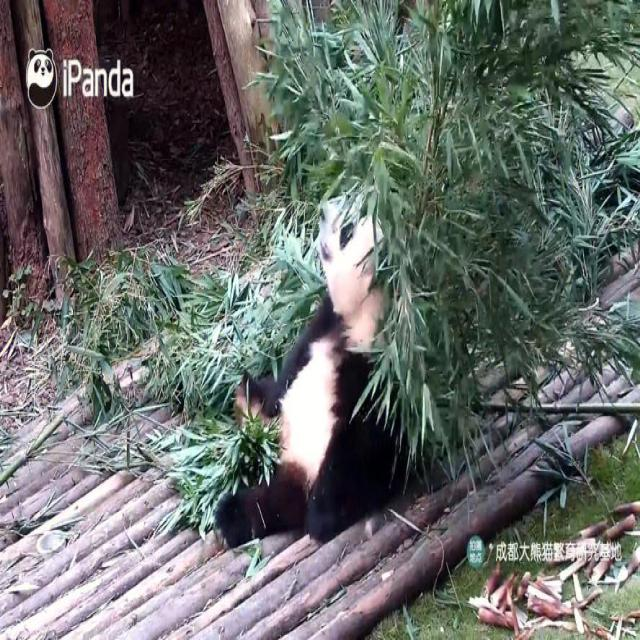panda: (217, 174, 437, 546)
